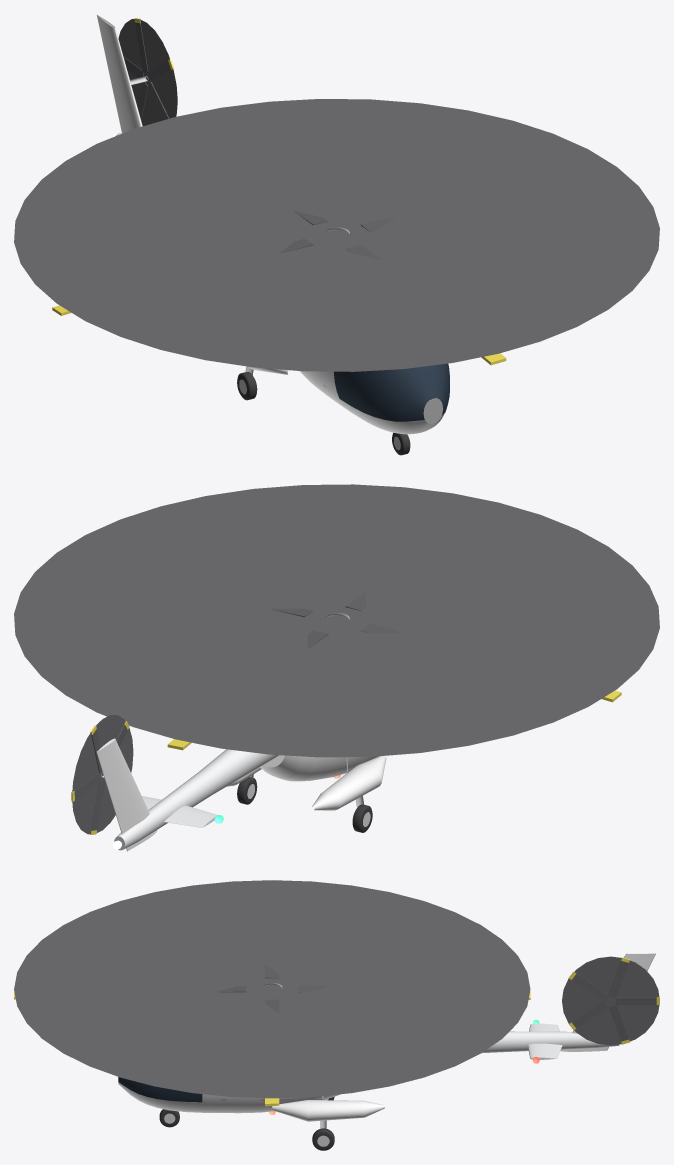
The picture shows the model from 3 angles, top to bottom: view 1: azimuth 30°, elevation 25°; view 2: azimuth 150°, elevation 25°; view 3: azimuth 270°, elevation 25°; orthographic projection. The views are drawn at different scales.
Visible parts, largest first — view 1: airframe, rotor, tail; view 2: airframe, rotor, tail; view 3: airframe, tail, rotor.
Boxes of the visible parts, x1,y1,x2,y2 form: airframe: [14, 15, 659, 455]; rotor: [52, 210, 506, 365]; tail: [123, 18, 173, 120]; airframe: [14, 484, 659, 851]; rotor: [167, 592, 621, 750]; tail: [71, 721, 129, 834]; airframe: [14, 880, 659, 1150]; tail: [569, 957, 659, 1044]; rotor: [14, 964, 530, 1106].
Bounding box in the file's own units: 16.2 × 6.2 × 20.26.
